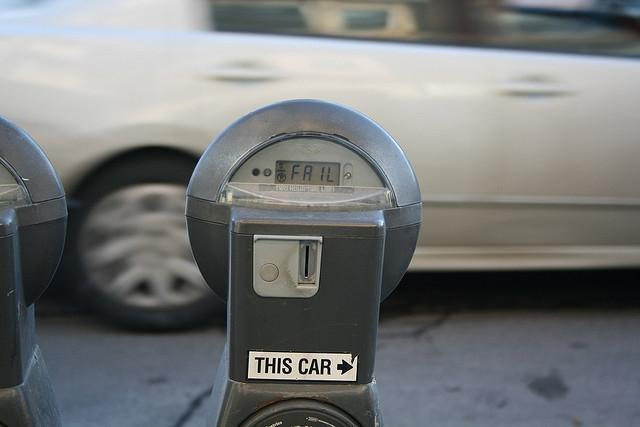car: (0, 2, 640, 336)
